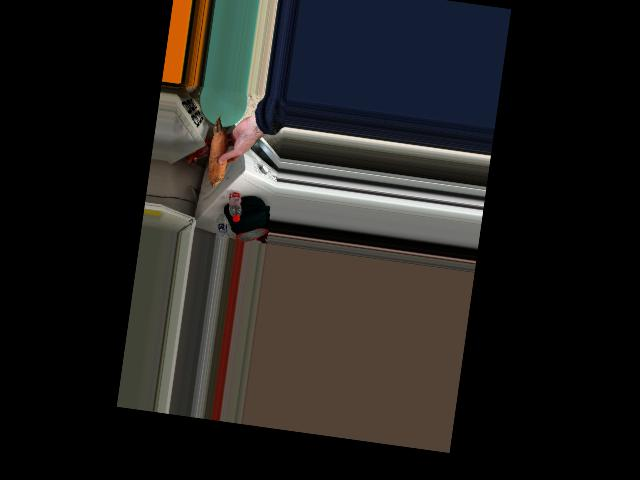sweet_potato: (204, 114, 237, 183)
